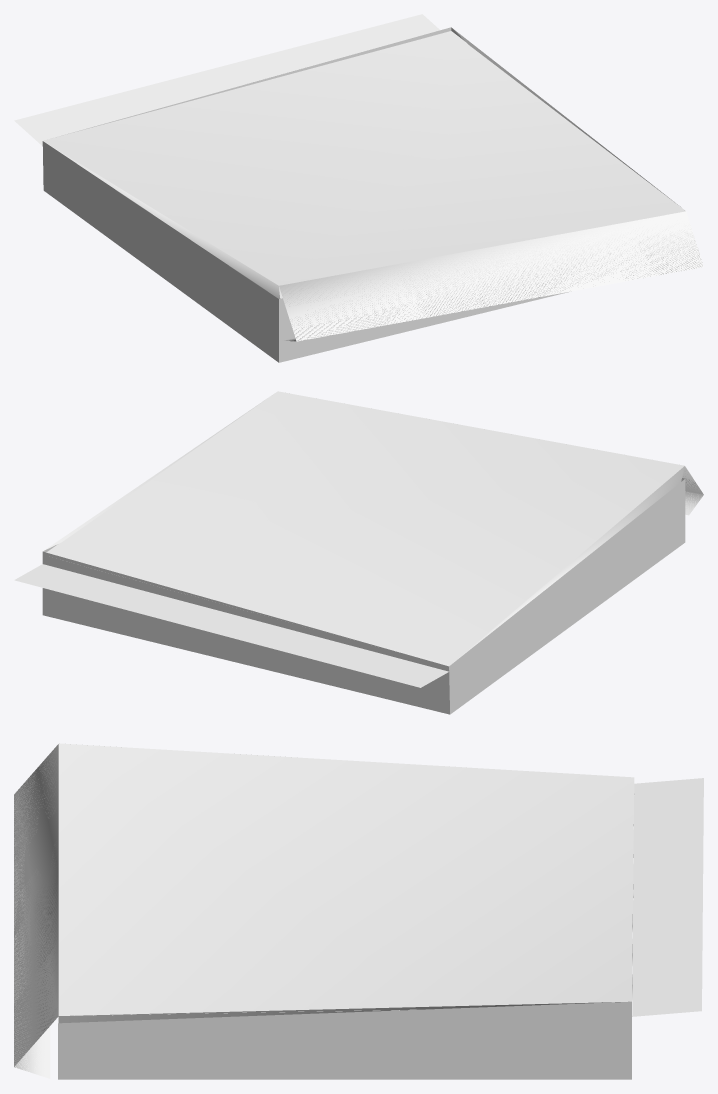
File: pizzaBox.glb
The picture shows the model from 3 angles, top to bottom: view 1: azimuth 30°, elevation 25°; view 2: azimuth 150°, elevation 25°; view 3: azimuth 270°, elevation 25°; orthographic projection. The views are drawn at different scales.
Parts seen in each view (by area): view 1: pizza_Box; view 2: pizza_Box; view 3: pizza_Box.
Part boxes in pixels (x1,y1,x2,y2): pizza_Box: (14, 14, 703, 362); pizza_Box: (14, 391, 703, 714); pizza_Box: (14, 743, 703, 1079).
Bounding box in the file's own units: 0.8009 × 0.1441 × 0.9619.
Materials: 1 (1 with a texture image).
